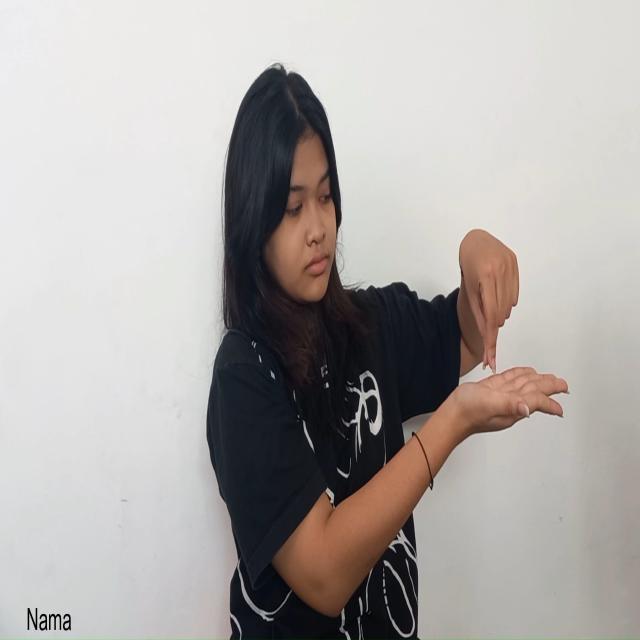Nama -BISINDO-: (459, 230, 569, 437)
